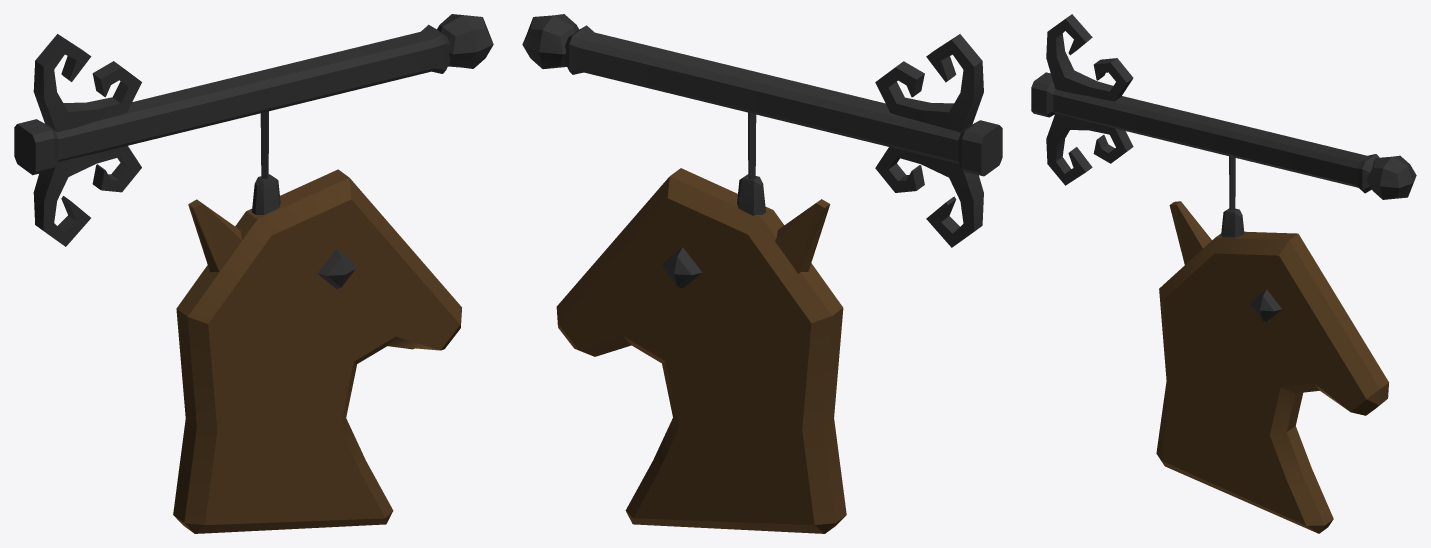
The model's file is SM_sign_stables.fbx.
3 views of the same model, side by side, from view 1: azimuth 30°, elevation 25°; view 2: azimuth 150°, elevation 25°; view 3: azimuth 330°, elevation 25° (orthographic). The views are drawn at different scales.
Visible parts, largest first — view 1: Line019; view 2: Line019; view 3: Line019.
Part boxes in pixels (left/top/right/bottom): Line019: left=14, top=14, right=493, bottom=533; Line019: left=522, top=14, right=1002, bottom=533; Line019: left=1031, top=14, right=1416, bottom=533.
Size of the model in its own units: 70.47 by 81.23 by 11.43.
